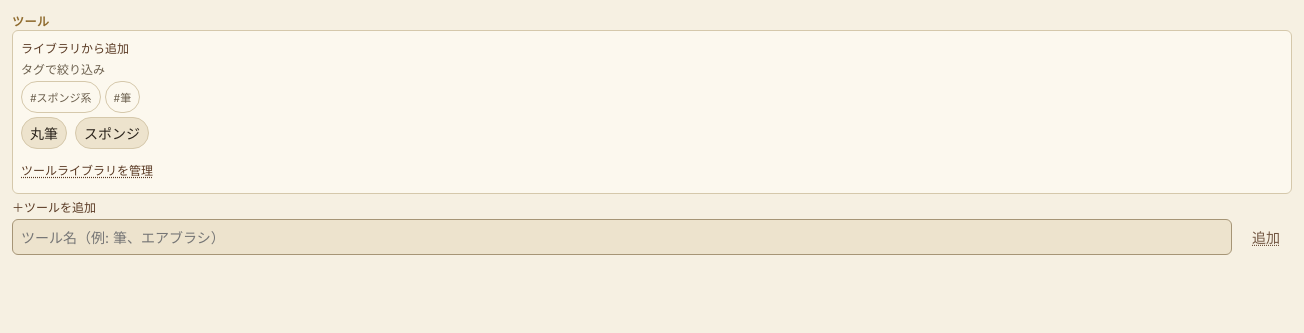
ToolSelect › タグ選択→当該タグの唯一の候補をコピーしても、絞り込みがstuckにならず候補・タグとも表示され続ける（review R1 L1・v2.8 T62でdedupe廃止後も回帰確認）
Check: the button "丸筆" is shown, box x1=21 y1=117 x2=67 y2=149
Click the button "#筆": click(122, 97) x1=105 y1=81 x2=140 y2=113
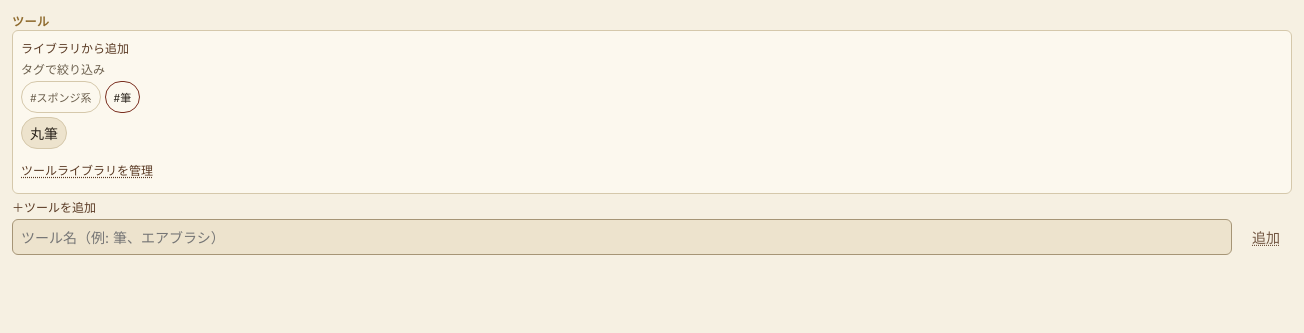
Click the button "丸筆": click(44, 133) x1=21 y1=117 x2=67 y2=149
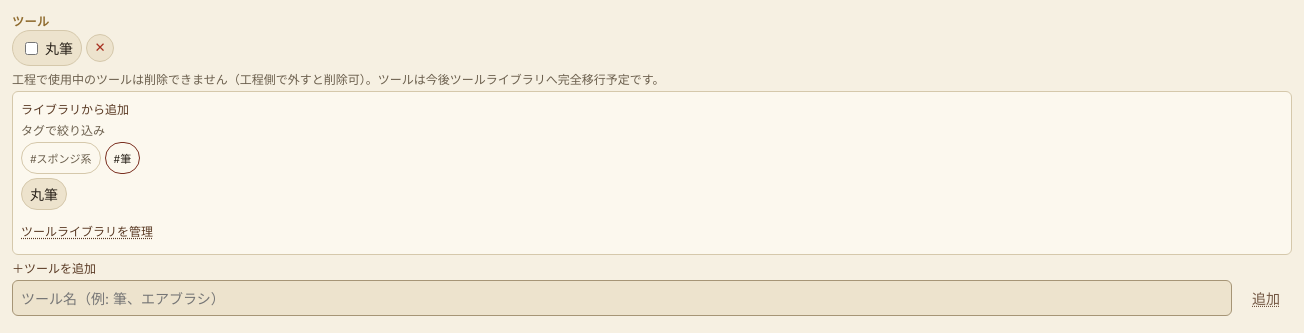
Check: the button "丸筆" is shown, box x1=21 y1=178 x2=67 y2=210
Click the button "#筆": click(122, 158) x1=105 y1=142 x2=140 y2=174
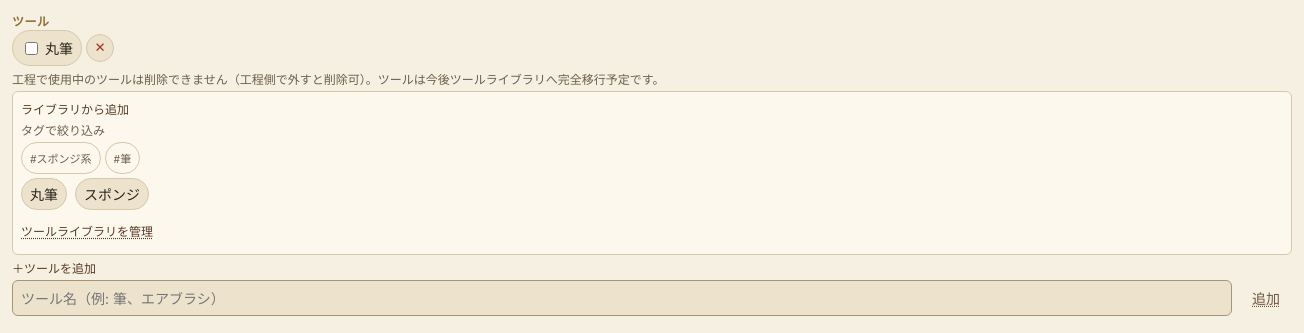
Check: the button "スポンジ" is shown, box x1=75 y1=178 x2=149 y2=210
